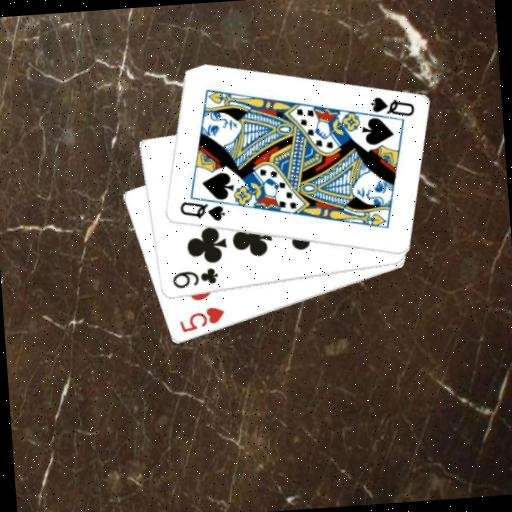5H: (175, 304, 227, 335)
9C: (169, 265, 221, 292)
QS: (176, 196, 228, 226), (367, 91, 416, 121)
